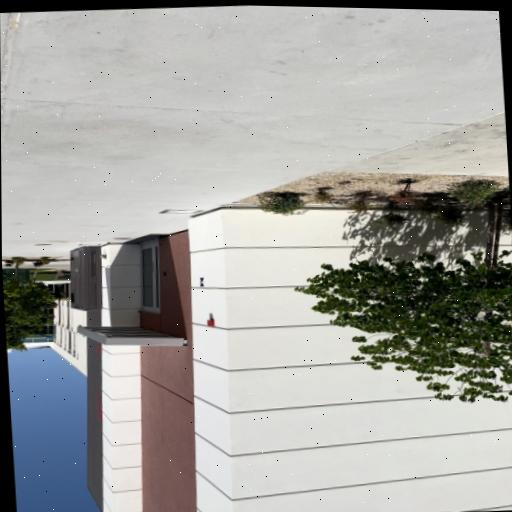target2: (199, 277, 205, 286)
